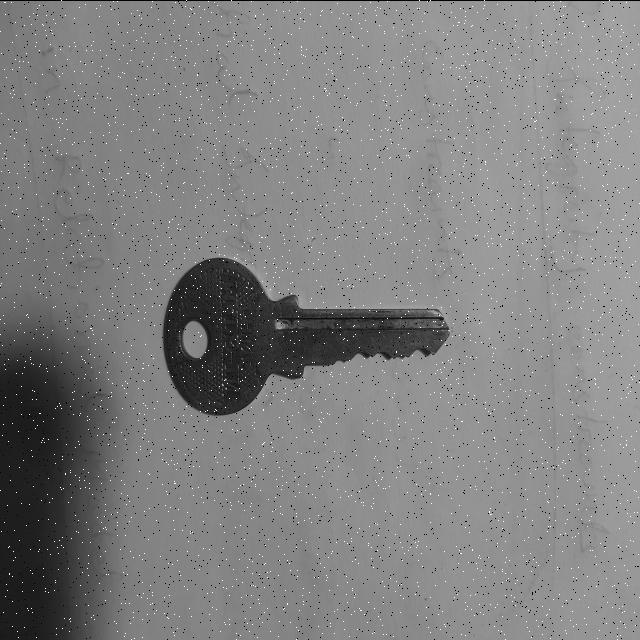key: (164, 257, 449, 415)
